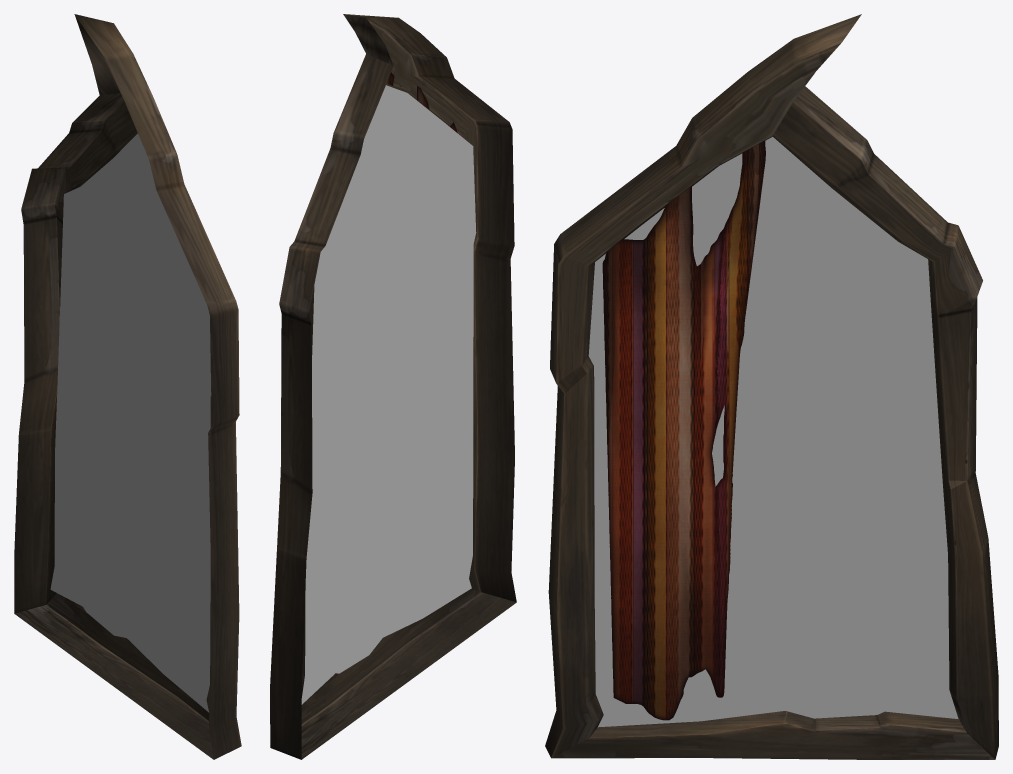
The model's file is lower_city_door_03.fbx.
3 views of the same model, side by side, from view 1: azimuth 30°, elevation 25°; view 2: azimuth 150°, elevation 25°; view 3: azimuth 270°, elevation 25° (orthographic). The views are drawn at different scales.
Visible parts, largest first — view 1: lower_city_door_03; view 2: lower_city_door_03; view 3: lower_city_door_03.
Part boxes in pixels (left/top/right/bottom): lower_city_door_03: left=14, top=14, right=241, bottom=759; lower_city_door_03: left=270, top=14, right=516, bottom=759; lower_city_door_03: left=545, top=14, right=998, bottom=759.
Bounding box in the file's own units: 0.1431 × 2.47 × 1.39.
